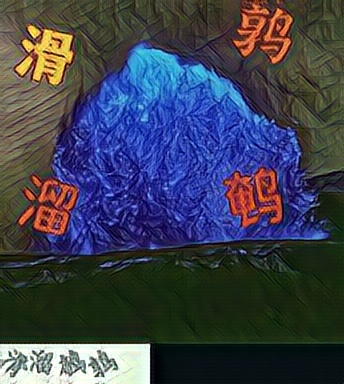BBAC: (12, 21, 75, 87)
C1EF: (16, 169, 79, 235)
F0C6: (221, 163, 284, 229)
F0C8: (231, 4, 294, 70)
